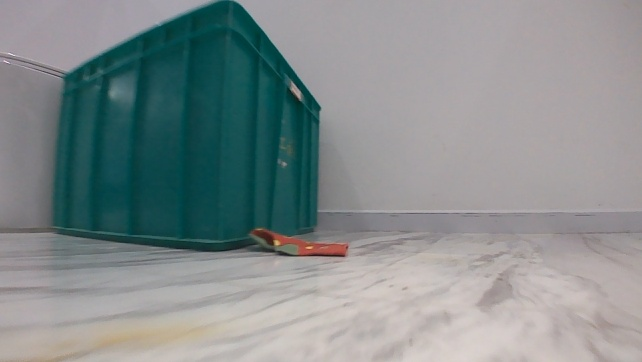socks: (246, 225, 350, 260)
toilet: (0, 48, 70, 233)
